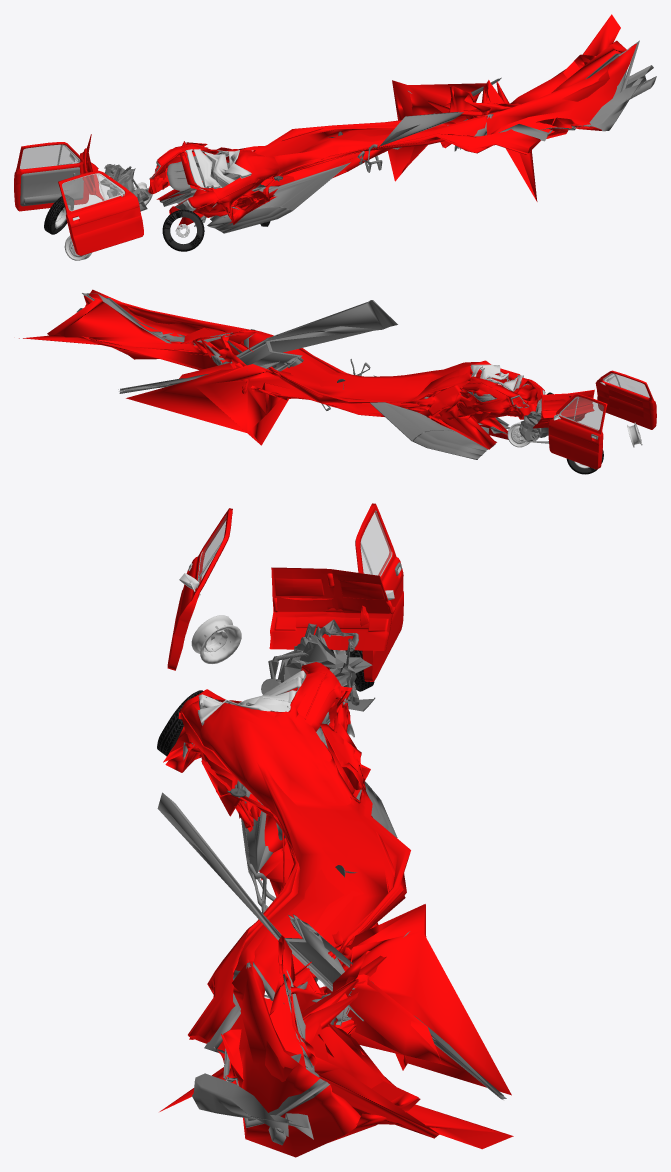
The model's file is Crash12.fbx.
3 renders of one model, top to bottom at view 1: azimuth 30°, elevation 25°; view 2: azimuth 150°, elevation 25°; view 3: azimuth 270°, elevation 25°, orthographic. The views are drawn at different scales.
Parts seen in each view (by area): view 1: Mesh_0304_rip, Mesh_0348_rip, Mesh_0387_rip, Mesh_0330_rip, Mesh_0425_rip, Mesh_0397_rip, Mesh_0375_rip, Mesh_0309_rip, Mesh_0421_rip, Mesh_0325_rip, Mesh_0295_rip, Mesh_0427_rip (+4 smaller); view 2: Mesh_0304_rip, Mesh_0330_rip, Mesh_0387_rip, Mesh_0348_rip, Mesh_0400_rip, Mesh_0425_rip, Mesh_0292_rip, Mesh_0362_rip, Mesh_0403_rip, Mesh_0427_rip, Mesh_0397_rip, Mesh_0309_rip (+3 smaller); view 3: Mesh_0304_rip, Mesh_0348_rip, Mesh_0330_rip, Mesh_0403_rip, Mesh_0387_rip, Mesh_0425_rip, Mesh_0386_rip, Mesh_0325_rip, Mesh_0362_rip, Mesh_0400_rip, Mesh_0368_rip, Mesh_0309_rip (+2 smaller).
Part boxes in pixels (x1,y1,x2,y2): Mesh_0304_rip: (150, 14, 631, 224); Mesh_0348_rip: (148, 68, 627, 223); Mesh_0387_rip: (149, 43, 636, 233); Mesh_0330_rip: (157, 80, 487, 227); Mesh_0425_rip: (486, 43, 637, 135); Mesh_0397_rip: (58, 170, 143, 255); Mesh_0375_rip: (20, 167, 83, 206); Mesh_0309_rip: (185, 149, 251, 190); Mesh_0421_rip: (62, 173, 125, 210); Mesh_0325_rip: (589, 65, 656, 131); Mesh_0295_rip: (14, 142, 89, 211); Mesh_0427_rip: (20, 144, 80, 168); Mesh_0304_rip: (19, 297, 538, 449); Mesh_0330_rip: (126, 342, 535, 445); Mesh_0387_rip: (84, 293, 543, 459); Mesh_0348_rip: (84, 295, 544, 419); Mesh_0400_rip: (548, 394, 607, 469); Mesh_0425_rip: (89, 289, 251, 354); Mesh_0292_rip: (595, 371, 656, 429); Mesh_0362_rip: (82, 293, 517, 385); Mesh_0403_rip: (533, 389, 594, 428); Mesh_0427_rip: (560, 396, 603, 429); Mesh_0397_rip: (599, 370, 656, 426); Mesh_0309_rip: (470, 364, 523, 391); Mesh_0304_rip: (159, 666, 513, 1149); Mesh_0348_rip: (163, 662, 409, 1157); Mesh_0330_rip: (242, 721, 511, 1095); Mesh_0403_rip: (269, 567, 392, 650); Mesh_0387_rip: (157, 675, 506, 1120); Mesh_0425_rip: (217, 964, 320, 1112); Mesh_0386_rip: (261, 619, 372, 705); Mesh_0325_rip: (192, 1054, 313, 1145); Mesh_0362_rip: (200, 678, 409, 1127); Mesh_0400_rip: (356, 503, 403, 681); Mesh_0368_rip: (191, 615, 241, 663); Mesh_0309_rip: (198, 670, 306, 725).
Size of the model in its own units: 27.57 by 5.57 by 7.58.
Materials: 8 (2 with a texture image).
